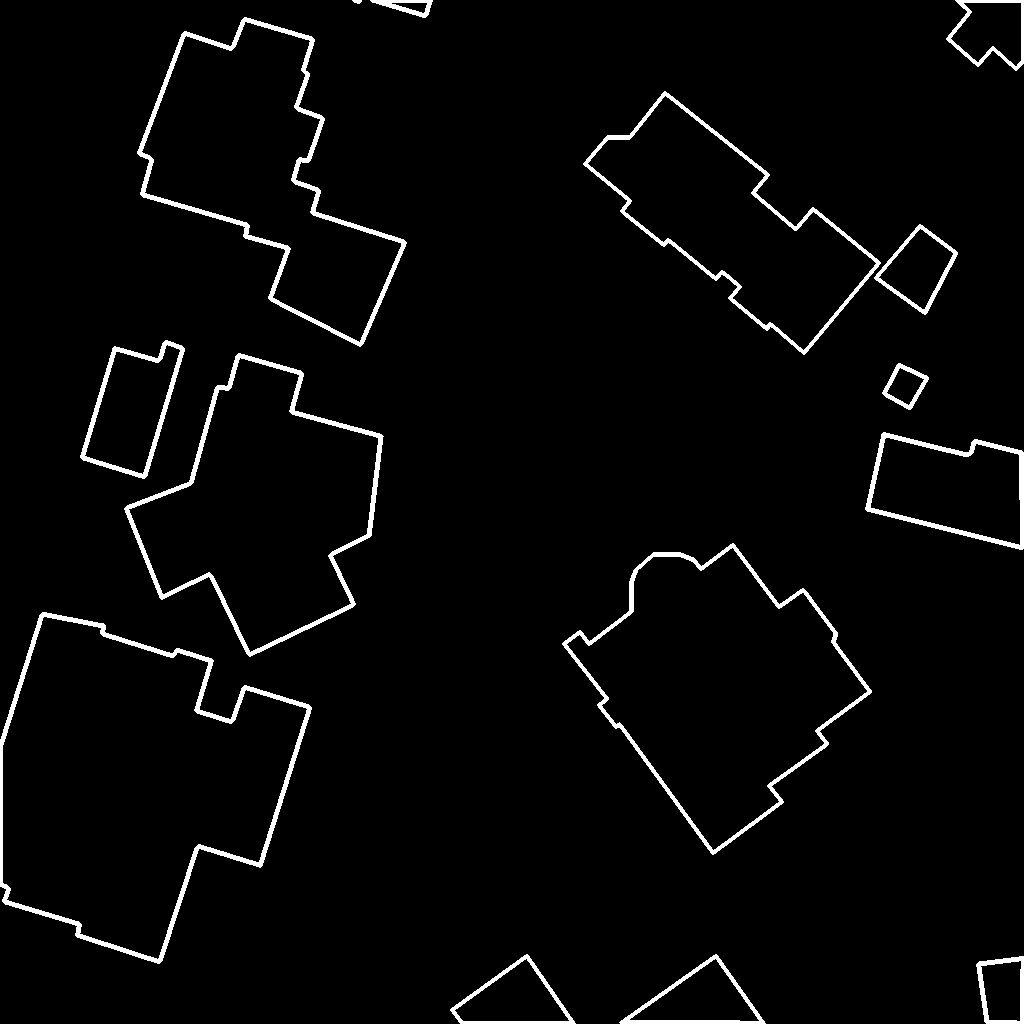building: (0, 614, 311, 963), (564, 545, 871, 854), (139, 19, 406, 346), (126, 355, 382, 656), (585, 93, 880, 354), (452, 956, 765, 1024), (867, 434, 1024, 549), (82, 342, 184, 478), (876, 226, 957, 314), (948, 0, 1024, 70), (978, 958, 1024, 1024), (884, 365, 928, 409), (353, 0, 432, 17)
